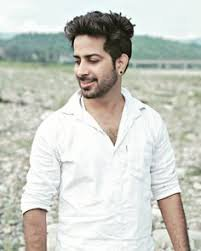noMask: (61, 10, 136, 100)
